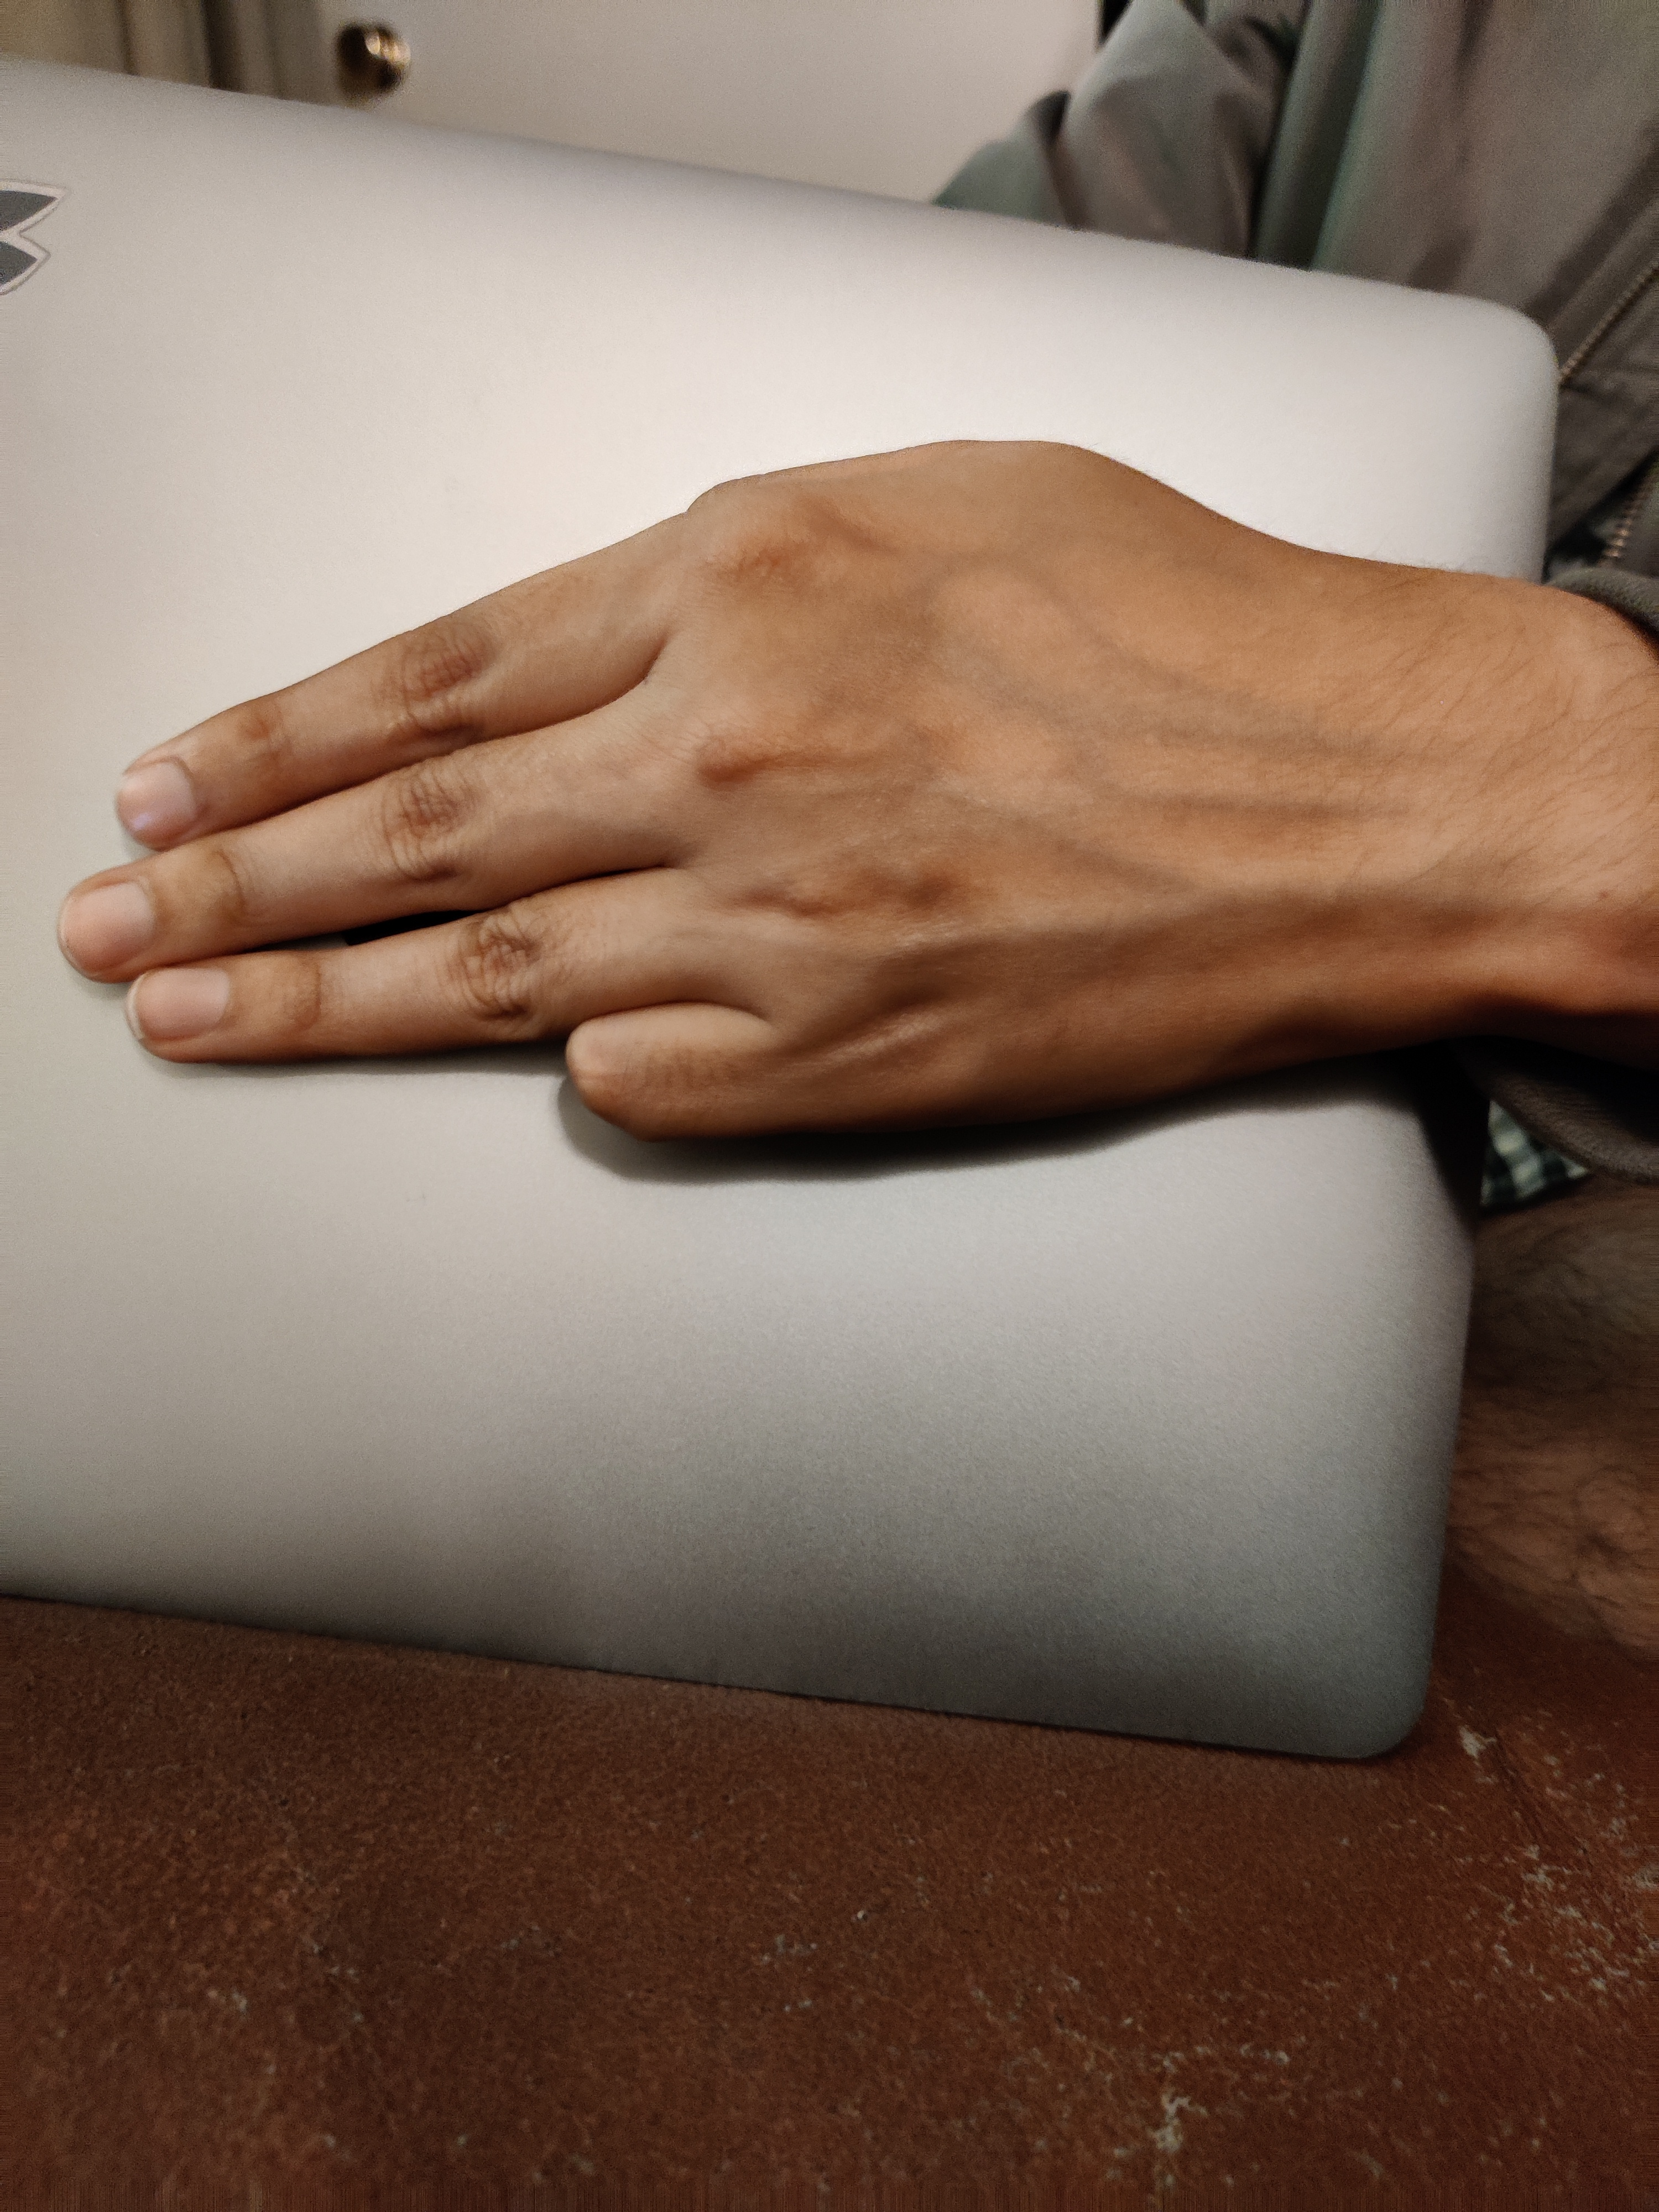right: (23, 327, 1619, 1366)
